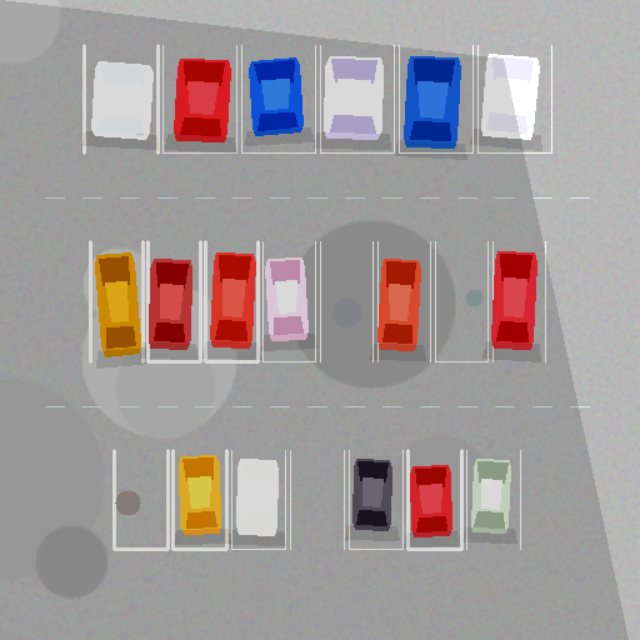space-empty: (320, 241, 373, 361), (435, 241, 487, 361), (114, 450, 168, 549), (290, 450, 344, 549)
space-occupied: (84, 45, 158, 153), (162, 45, 236, 153), (241, 45, 315, 153), (320, 45, 394, 153), (399, 45, 472, 153), (478, 45, 551, 153), (90, 241, 143, 361), (147, 241, 200, 361), (377, 241, 430, 361), (205, 241, 257, 361), (263, 241, 315, 361), (493, 241, 545, 361), (172, 450, 226, 549), (231, 450, 285, 549), (466, 450, 520, 549), (349, 450, 402, 549), (408, 450, 461, 549)
